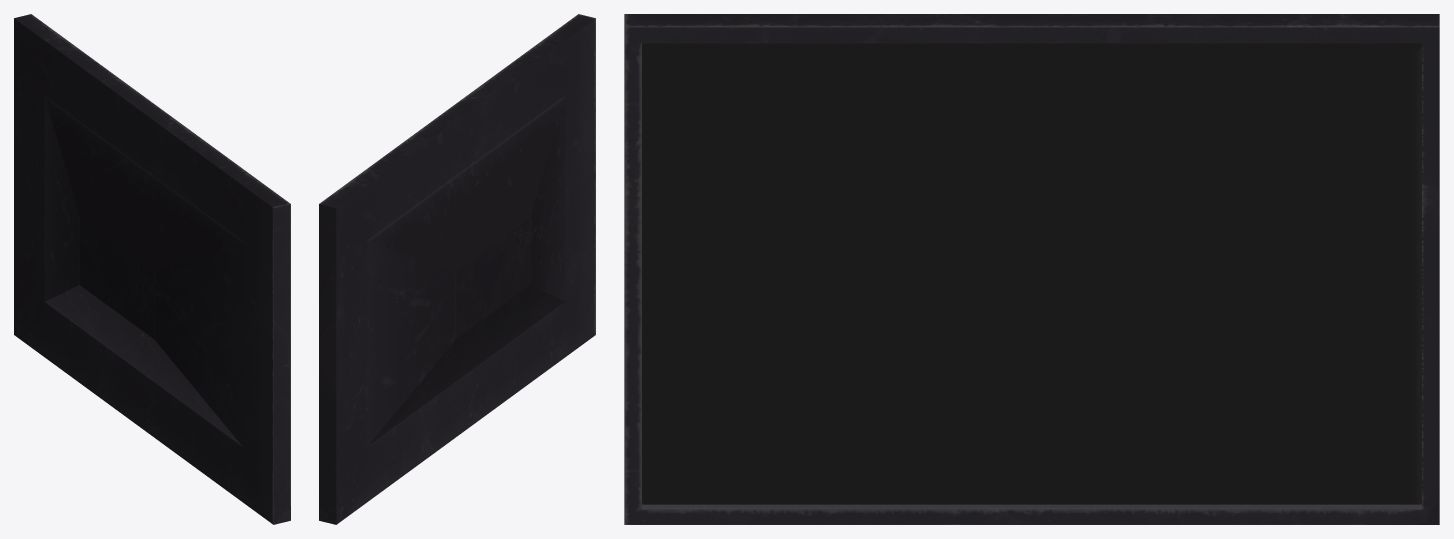
File: InsiderTradingGame_Monitor.fbx
3 views of the same model, side by side, from view 1: azimuth 30°, elevation 25°; view 2: azimuth 150°, elevation 25°; view 3: azimuth 270°, elevation 25° (orthographic). The views are drawn at different scales.
Parts seen in each view (by area): view 1: Monitor_1.005; view 2: Monitor_1.005; view 3: Monitor_1.005.
Part boxes in pixels (x1,y1,x2,y2): Monitor_1.005: (14,14,290,524); Monitor_1.005: (319,14,595,524); Monitor_1.005: (624,14,1439,524).
Bounding box in the file's own units: 17.43 × 120 × 177.
1 material, 1 textured.
